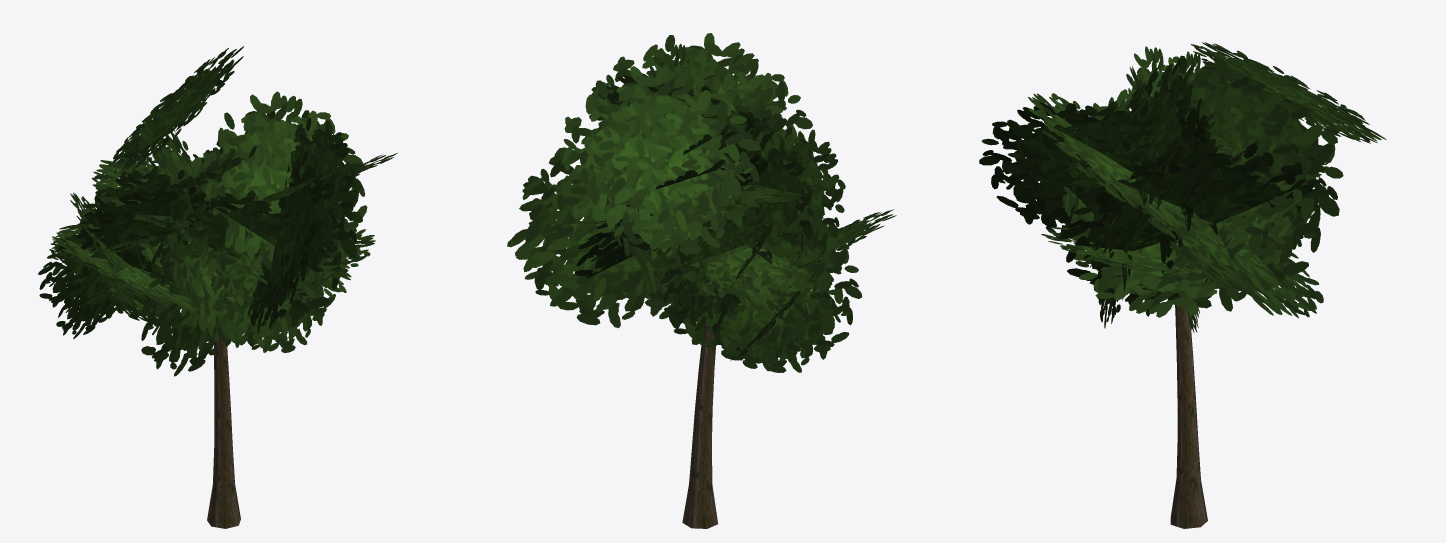
File: jungle_tree_3.glb
3 views of the same model, side by side, from view 1: azimuth 30°, elevation 25°; view 2: azimuth 150°, elevation 25°; view 3: azimuth 270°, elevation 25° (orthographic). The views are drawn at different scales.
Parts seen in each view (by area): view 1: jungle_tree_3; view 2: jungle_tree_3; view 3: jungle_tree_3.
Part boxes in pixels (box(x1,y1,x2,y2)): jungle_tree_3: box(38, 46, 397, 528); jungle_tree_3: box(507, 33, 896, 528); jungle_tree_3: box(979, 42, 1386, 528).
Bounding box in the file's own units: 11.16 × 13.86 × 11.86.
Materials: 2 (2 with a texture image).
